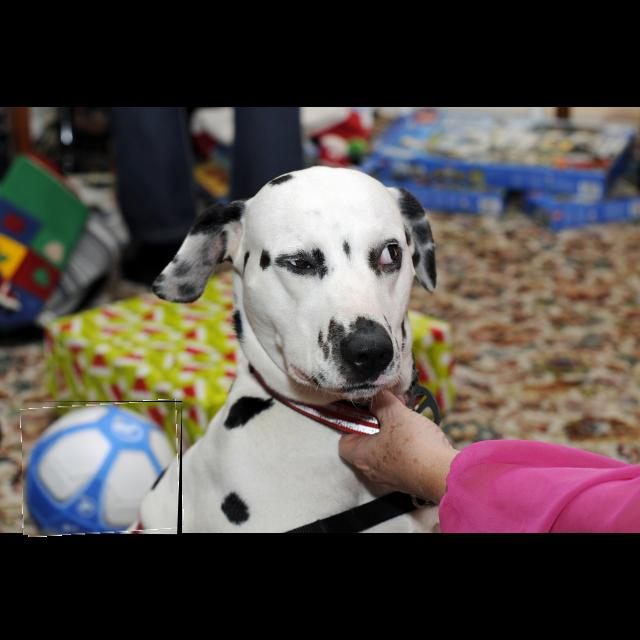Football: (22, 401, 182, 535)
